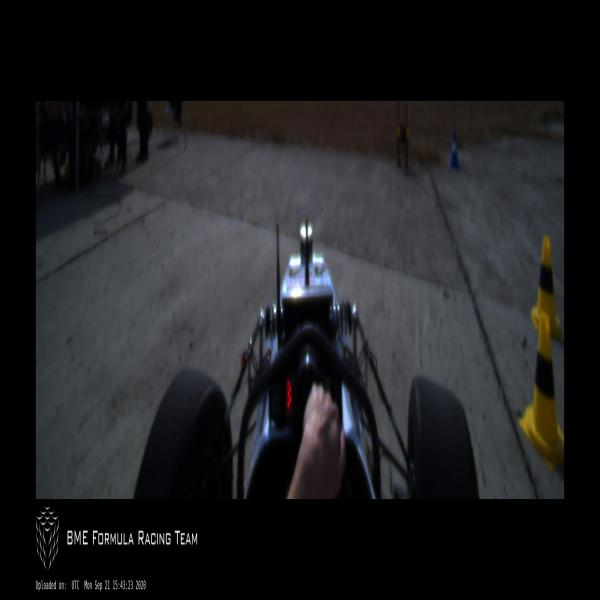blue_cone: (449, 130, 460, 169)
yellow_cone: (519, 312, 564, 470), (530, 234, 564, 340)
